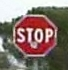stop: (11, 12, 57, 56)
